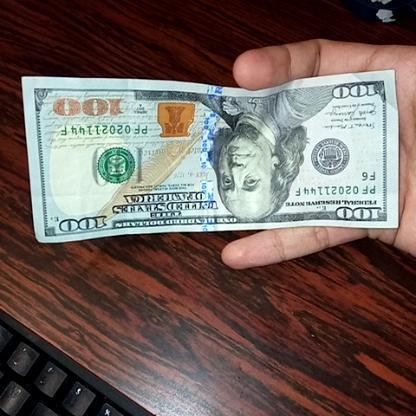one_hundred-front: (30, 67, 400, 235)
